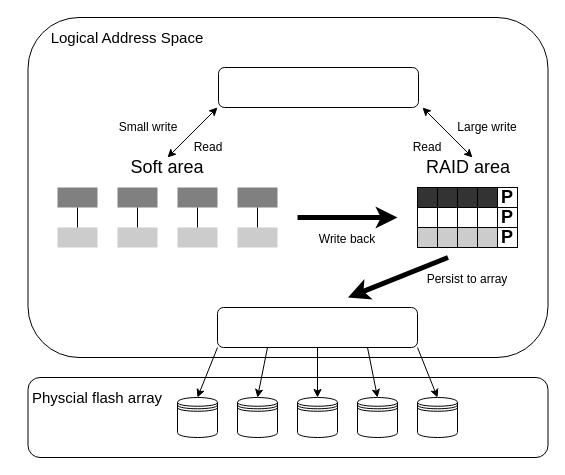
The diagram is 565 pixels wide and 475 high, and some of its shapes have lost their labels. The box of each missing label's shape, as (x1, y1, x2, y2) in pixels:
Block distributor: (216, 306, 418, 348)
I/O request classifier: (218, 66, 418, 108)
